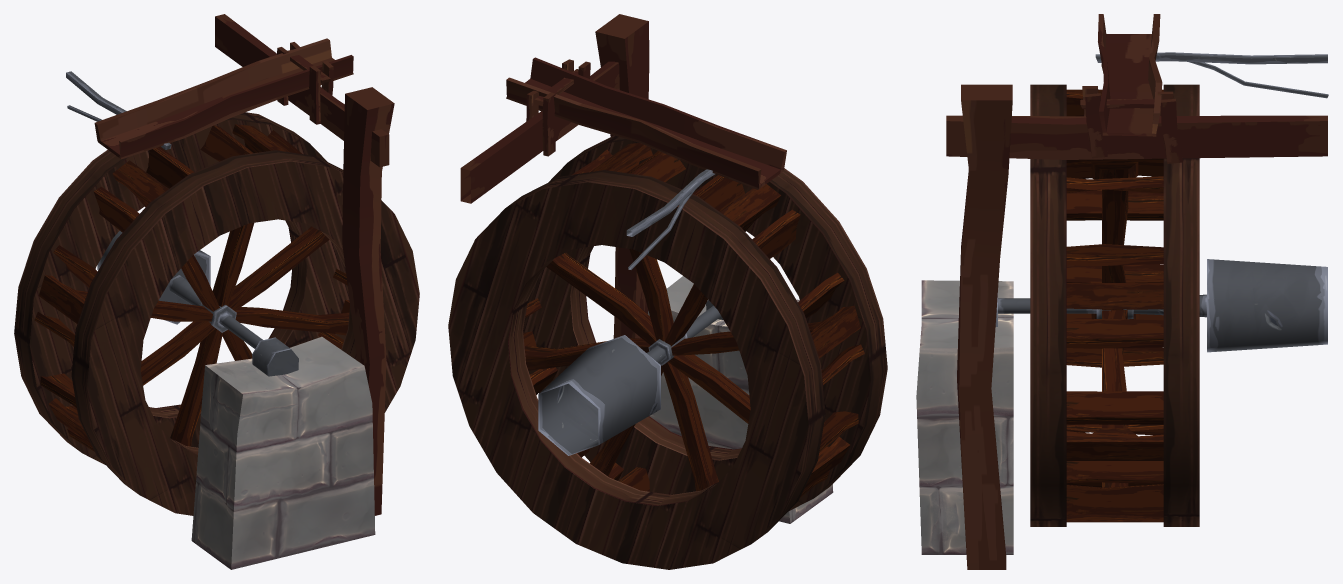
File: SM_BLD_waterwheel_construct.fbx
3 renders of one model, left to right at view 1: azimuth 30°, elevation 25°; view 2: azimuth 150°, elevation 25°; view 3: azimuth 270°, elevation 25°, orthographic. The views are drawn at different scales.
Parts seen in each view (by area): view 1: SM_BLD_waterwheel, SM_BLD_waterwheel_construct; view 2: SM_BLD_waterwheel, SM_BLD_waterwheel_construct; view 3: SM_BLD_waterwheel_construct, SM_BLD_waterwheel.
Boxes of the visible parts, bbox=[...] form: SM_BLD_waterwheel: bbox=[14, 112, 419, 515]; SM_BLD_waterwheel_construct: bbox=[66, 14, 394, 569]; SM_BLD_waterwheel: bbox=[448, 135, 887, 569]; SM_BLD_waterwheel_construct: bbox=[460, 14, 833, 523]; SM_BLD_waterwheel_construct: bbox=[916, 14, 1328, 569]; SM_BLD_waterwheel: bbox=[998, 84, 1206, 526].
Bounding box in the file's own units: 624 × 736 × 577.
